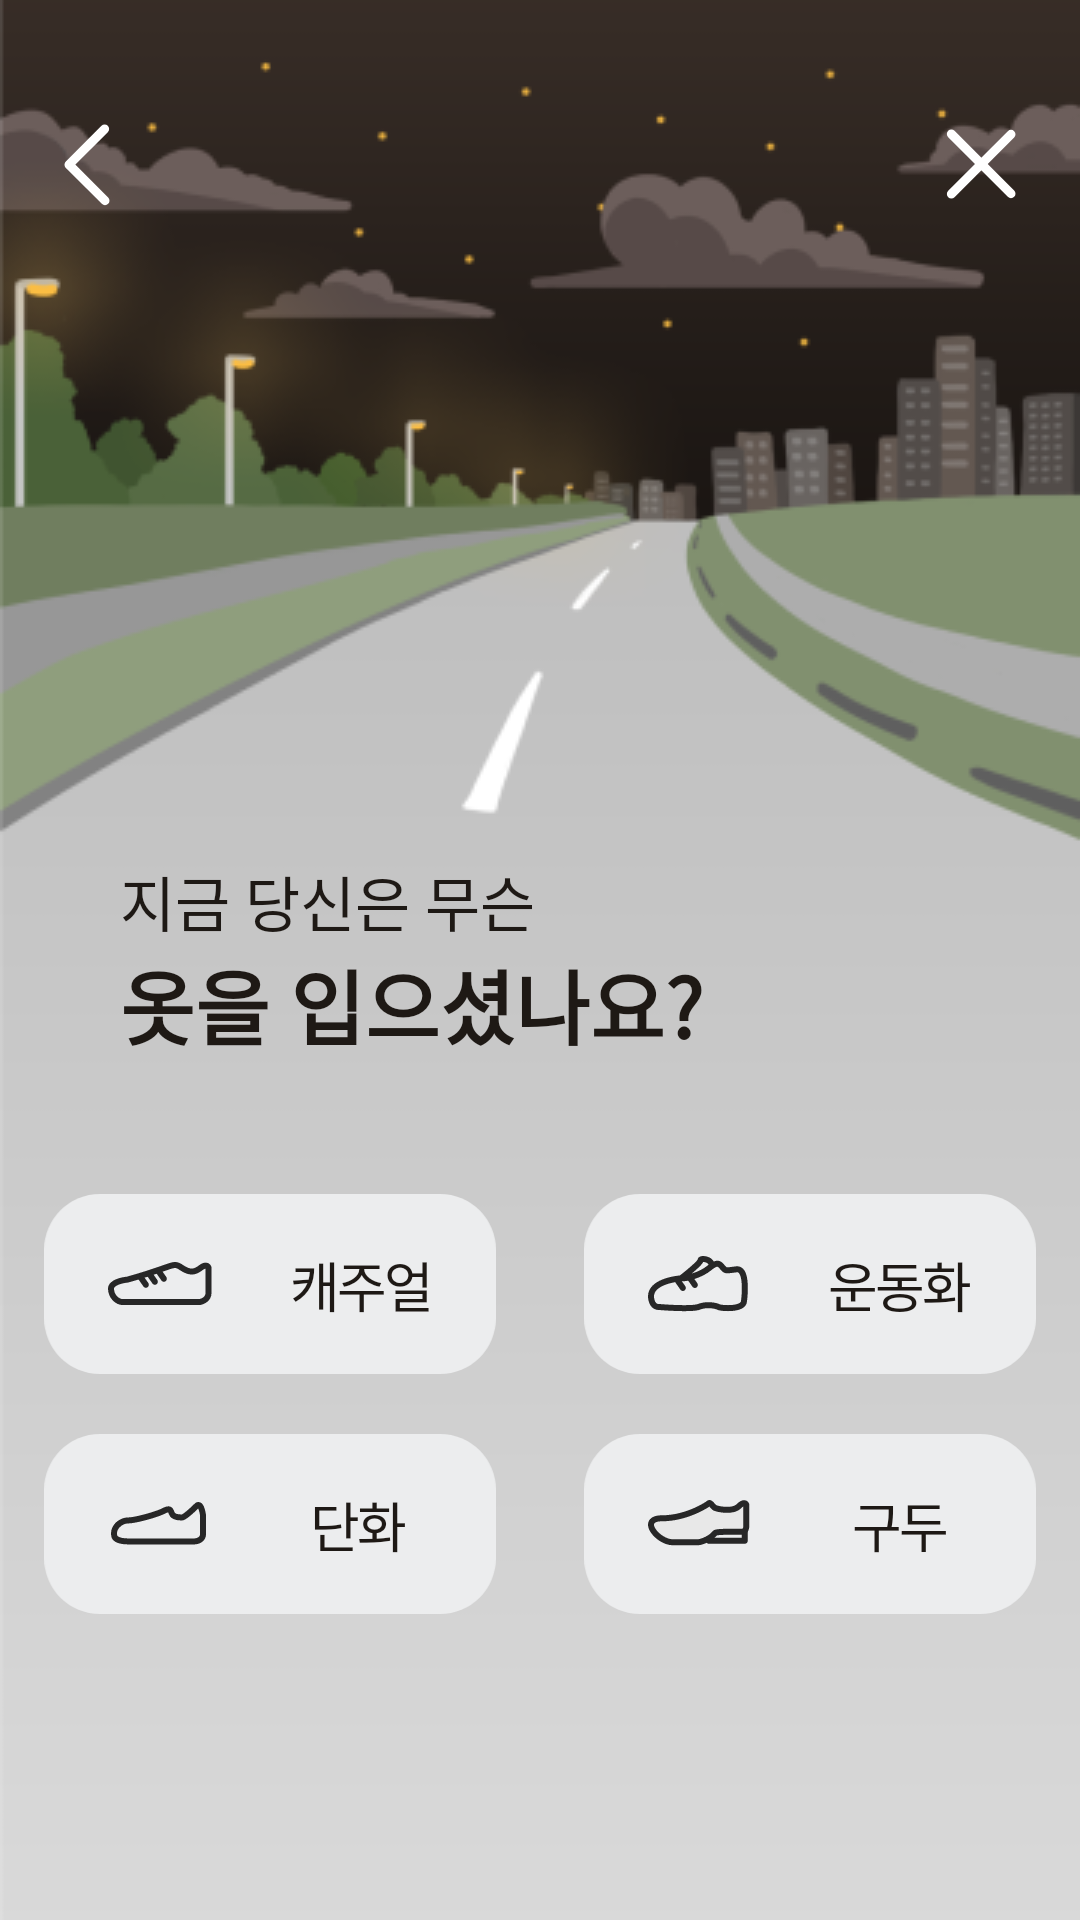

Point at icon controls on the screen. Image size 1080*1920, points as (x=x, y=y).
back arrow: (x=87, y=163)
cancel: (x=982, y=162)
